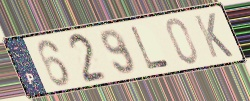0: (165, 16, 200, 66)
2: (68, 30, 110, 84)
6: (37, 38, 72, 89)
9: (100, 28, 138, 77)
K: (192, 12, 236, 61)
L: (128, 24, 172, 71)
